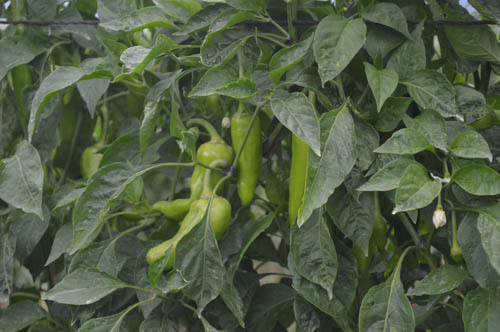ChiliPepper: (153, 141, 228, 223), (145, 197, 227, 271), (286, 119, 315, 233), (229, 116, 265, 206)
